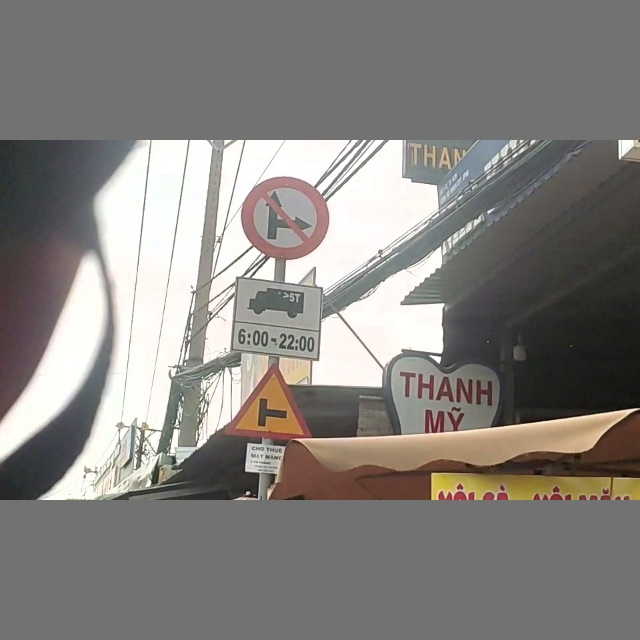P.139: (243, 175, 328, 259)
S.505a*Xe tai: (236, 276, 319, 356)
W.205b: (227, 362, 312, 439)
